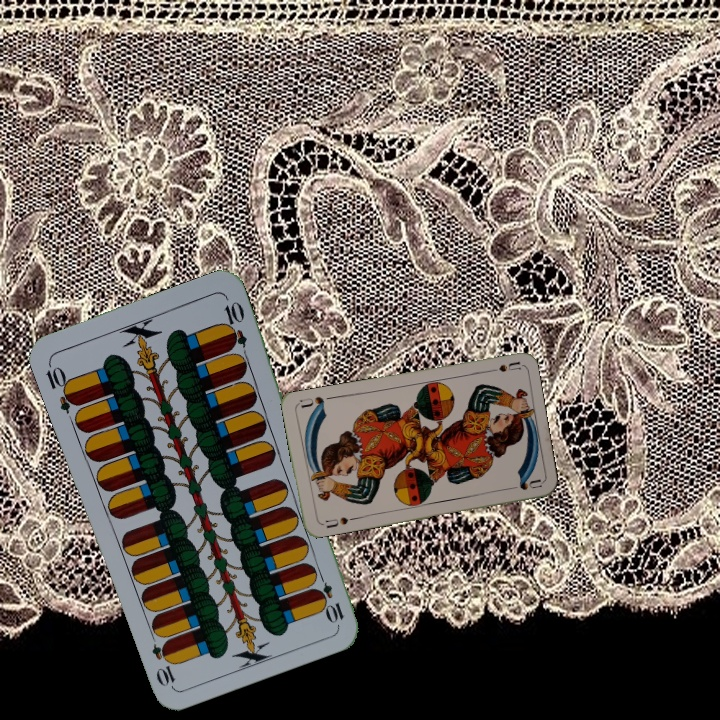E10: (41, 358, 81, 415), (312, 568, 347, 626)
SU: (481, 357, 522, 375), (321, 513, 351, 531)
